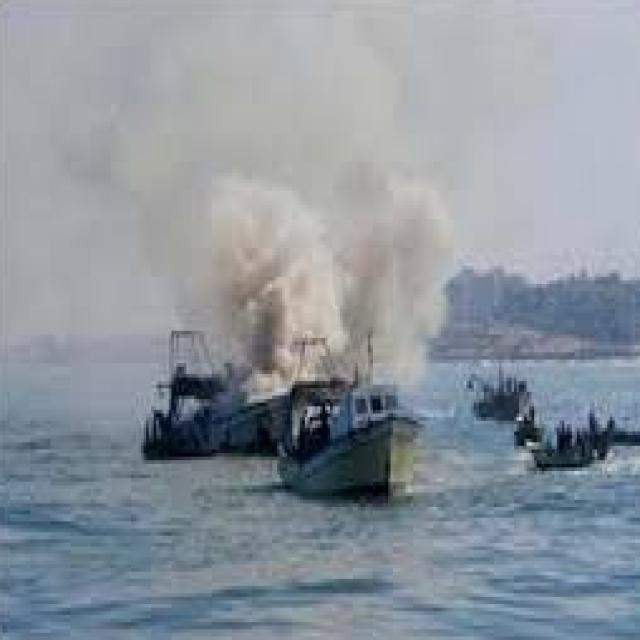houseboat: (146, 322, 314, 456), (276, 341, 393, 509), (468, 357, 532, 425), (528, 418, 602, 472), (582, 396, 640, 438)
